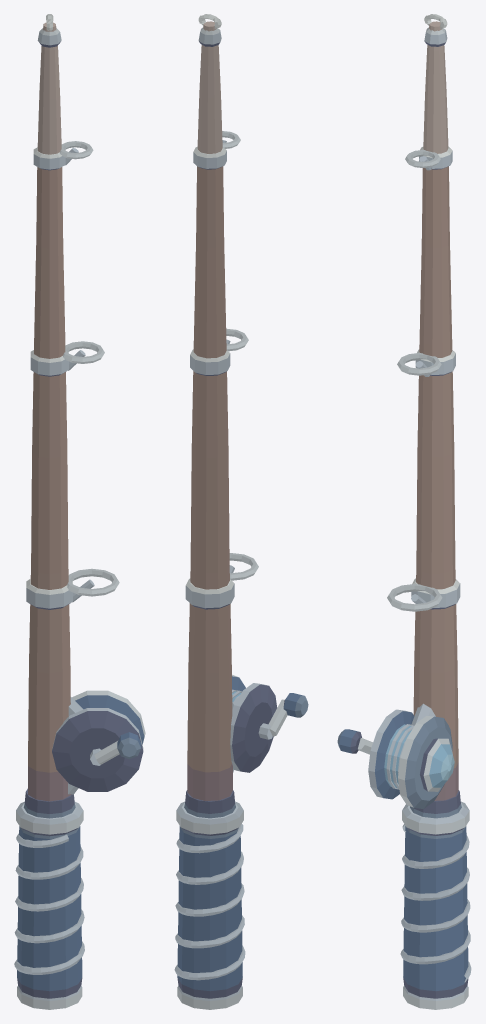
The model's file is mystic_rod.glb.
The picture shows the model from 3 angles, left to right: view 1: azimuth 90°, elevation 25°; view 2: azimuth 150°, elevation 25°; view 3: azimuth 330°, elevation 25°; orthographic projection.
Parts seen in each view (by area): view 1: Rod; view 2: Rod; view 3: Rod.
Boxes of the visible parts, <box> form: Rod: <box>14,14,145,1009</box>; Rod: <box>174,14,308,1009</box>; Rod: <box>337,14,471,1009</box>.
Size of the model in its own units: 0.098 by 0.9976 by 0.1204.
